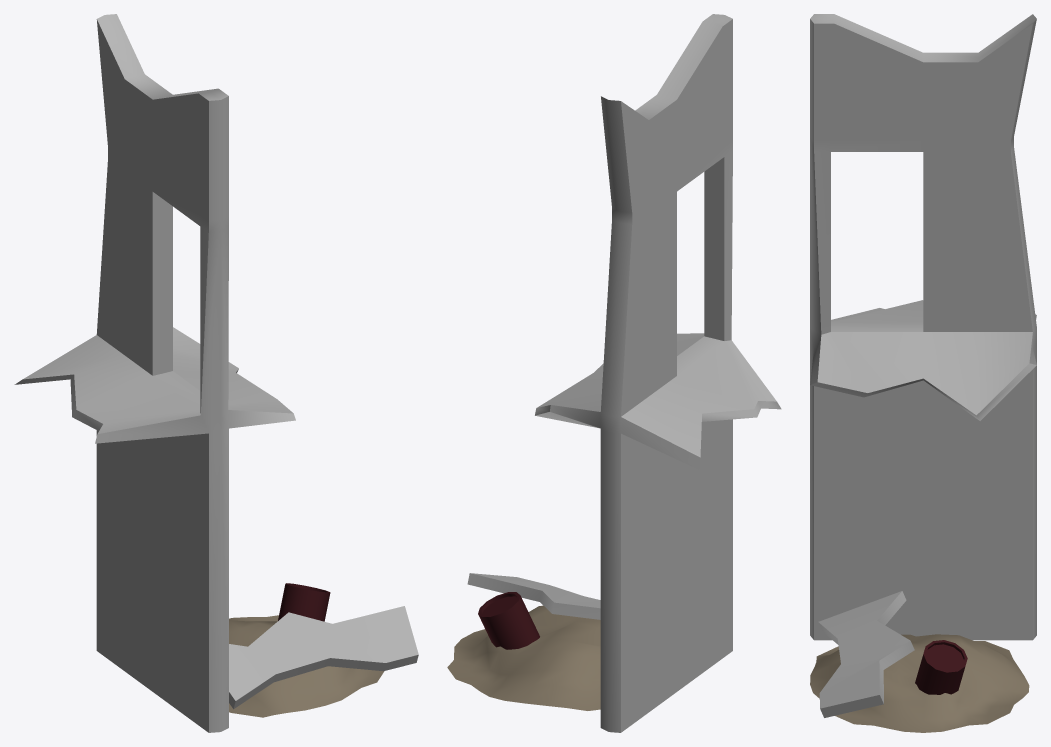
The model's file is building1_prototype.fbx.
3 views of the same model, side by side, from view 1: azimuth 30°, elevation 25°; view 2: azimuth 150°, elevation 25°; view 3: azimuth 270°, elevation 25° (orthographic). The views are drawn at different scales.
Visible parts, largest first — view 1: building, part_builiding, dust, barrel; view 2: building, dust, part_builiding, barrel; view 3: building, dust, part_builiding, barrel.
Part boxes in pixels (x1,y1,x2,y2): building: (14,14,295,732); part_builiding: (229,606,418,709); dust: (229,615,384,717); barrel: (278,583,330,621); building: (535,14,781,732); dust: (447,605,600,710); part_builiding: (467,573,600,619); barrel: (478,592,539,649); building: (810,14,1036,640); dust: (810,634,1029,732); part_builiding: (818,591,914,717); barrel: (915,640,967,694).
Bounding box in the file's own units: 309 × 602 × 200.
